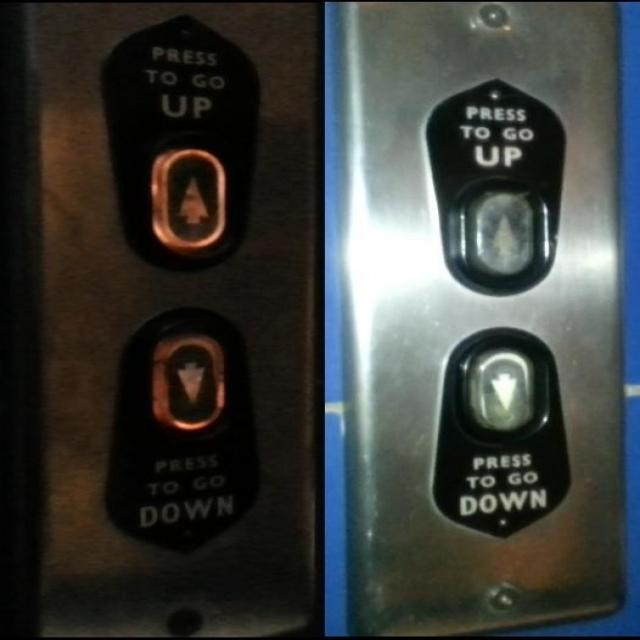down: (452, 326, 552, 446), (153, 335, 223, 428)
up: (448, 175, 552, 292), (152, 146, 228, 248)
